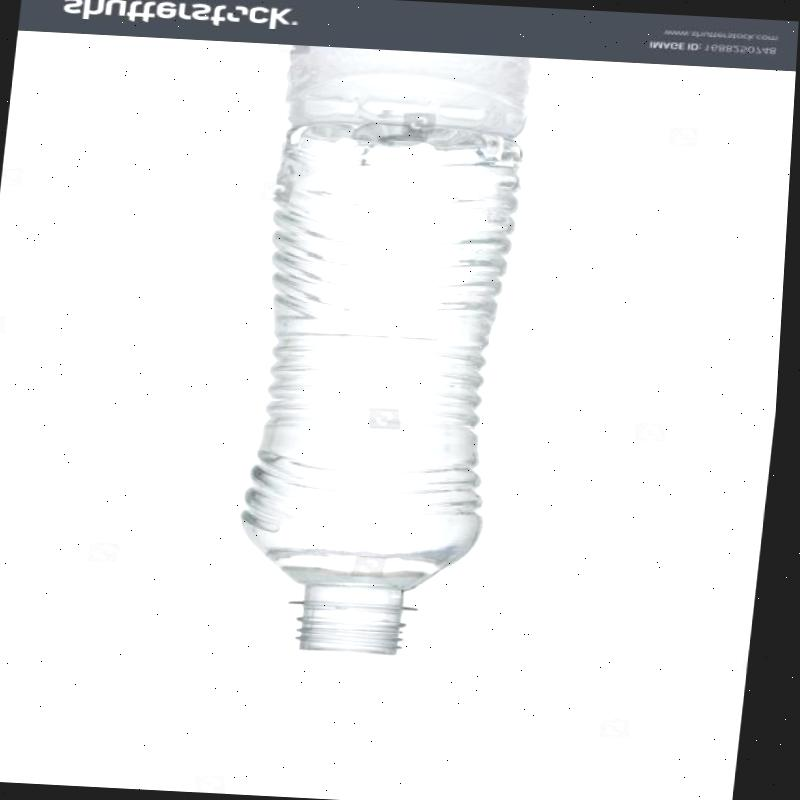botella: (233, 111, 533, 664)
